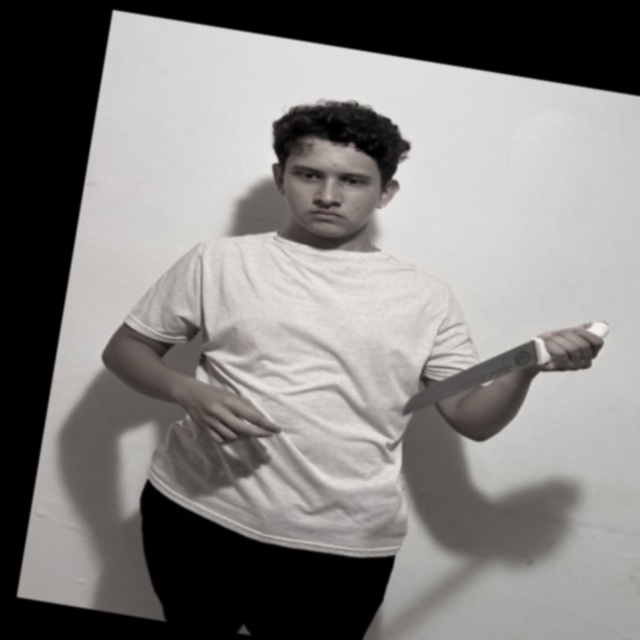Sharp-Object: (398, 320, 539, 434)
